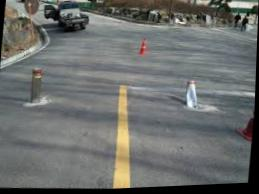Animal: (12, 59, 50, 119)
